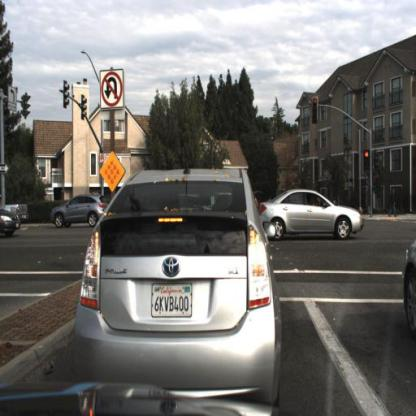car: (72, 165, 283, 388), (259, 189, 365, 240), (51, 194, 109, 226), (401, 230, 416, 336), (1, 197, 26, 244)
trafficLight-Red: (312, 92, 322, 125), (362, 146, 373, 174)
